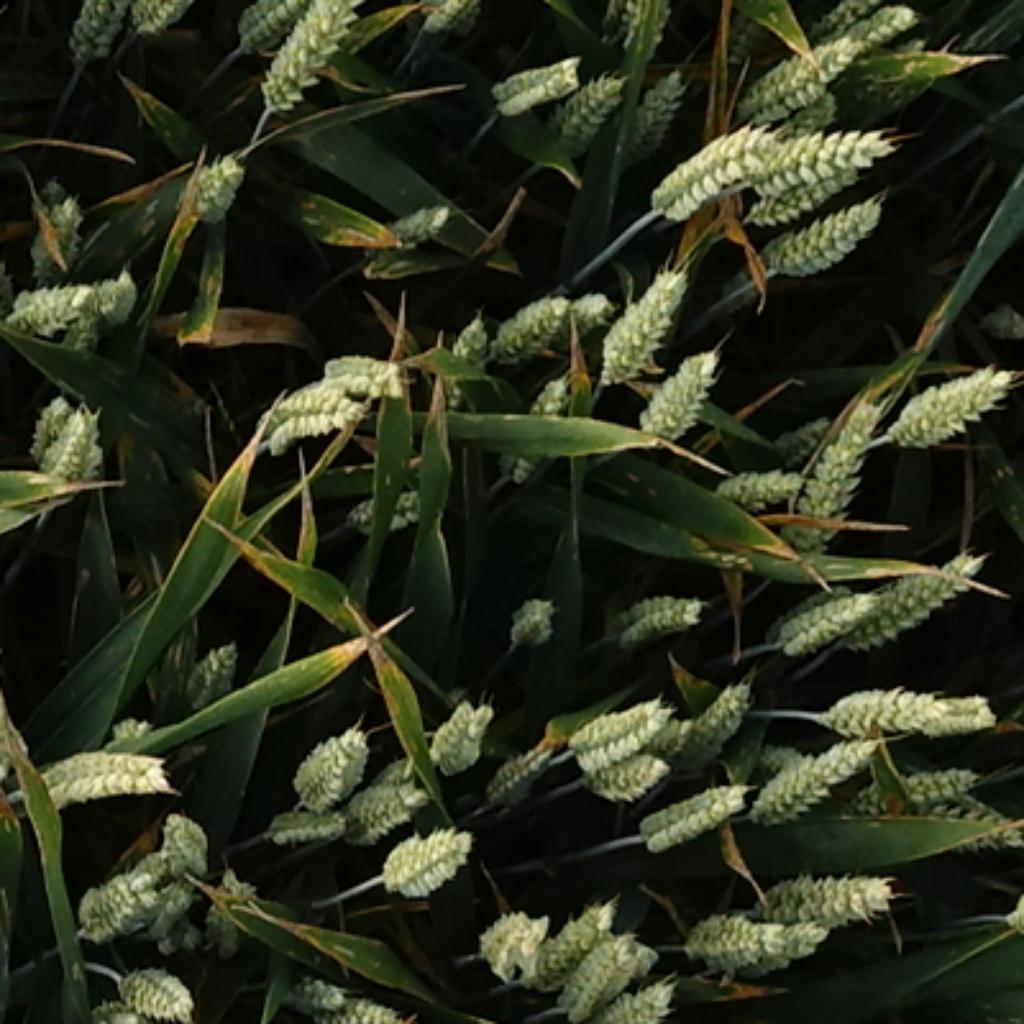0-0: (783, 542, 985, 652), (808, 673, 1011, 757), (778, 386, 885, 529), (652, 115, 775, 230), (744, 724, 883, 821), (248, 2, 371, 110), (729, 20, 862, 117), (880, 348, 1011, 445), (752, 184, 888, 276), (509, 888, 624, 995), (673, 896, 834, 972), (560, 688, 678, 791), (593, 253, 693, 373), (609, 770, 744, 855), (739, 860, 896, 929), (757, 570, 890, 650), (250, 373, 404, 442), (747, 130, 896, 197), (0, 263, 138, 335), (33, 729, 174, 798), (71, 849, 168, 947), (481, 276, 596, 358), (496, 366, 573, 486), (867, 808, 1024, 865), (552, 926, 640, 1021), (634, 340, 721, 435), (606, 61, 688, 156), (284, 714, 373, 801), (668, 670, 757, 757), (373, 814, 473, 890), (38, 404, 107, 512), (360, 189, 458, 263), (294, 340, 412, 401), (547, 61, 629, 145), (834, 0, 935, 67), (435, 307, 501, 409), (23, 171, 89, 271), (473, 898, 555, 975), (752, 168, 862, 225), (340, 775, 424, 849), (176, 140, 253, 220), (332, 473, 435, 532), (842, 768, 983, 811), (609, 578, 706, 637), (573, 967, 673, 1024), (486, 46, 578, 107), (424, 688, 494, 768), (742, 916, 842, 972), (481, 734, 563, 801), (581, 926, 668, 988), (532, 289, 616, 353), (118, 967, 208, 1024), (570, 755, 678, 801), (179, 640, 250, 709), (709, 455, 803, 504), (227, 2, 317, 53), (61, 2, 128, 66), (21, 381, 71, 462), (151, 806, 212, 870), (204, 870, 250, 954), (320, 983, 409, 1024), (153, 870, 202, 944), (798, 2, 870, 52), (261, 798, 348, 839), (499, 583, 558, 642), (266, 975, 348, 1016), (407, 2, 494, 38), (94, 709, 161, 750), (637, 716, 701, 757), (125, 2, 194, 35)
